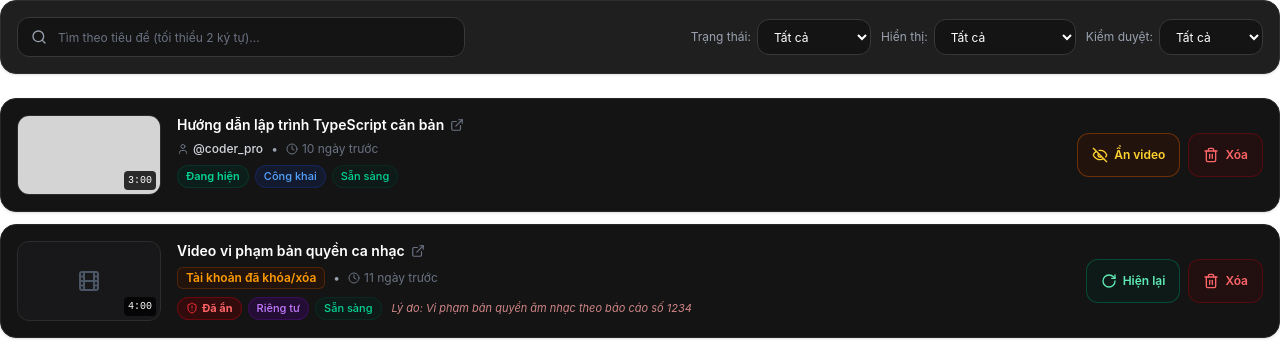
Test: ADMV1 (ADR-047): Admin Videos & Watch-Page Moderation Actions › 6. Restore Video Action › restores a hidden video to VISIBLE via PUT
Step 1. Click the button with test id "admin-video-restore-btn-vid-002" → (1133, 281), box [1086,259,1180,303]
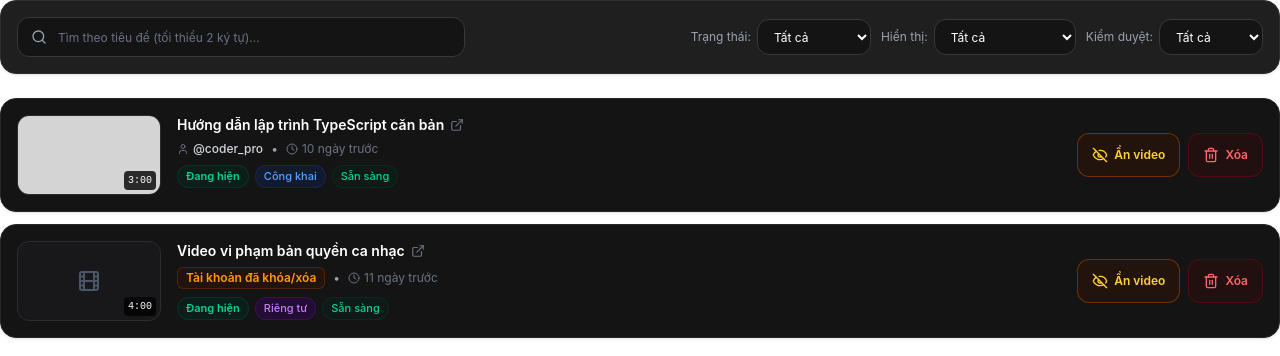
Now the button with test id "admin-video-hide-btn-vid-002" is shown, box [1077,259,1180,303]
